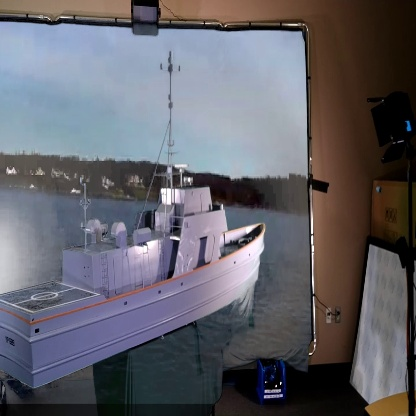YP689: (0, 59, 265, 388)
